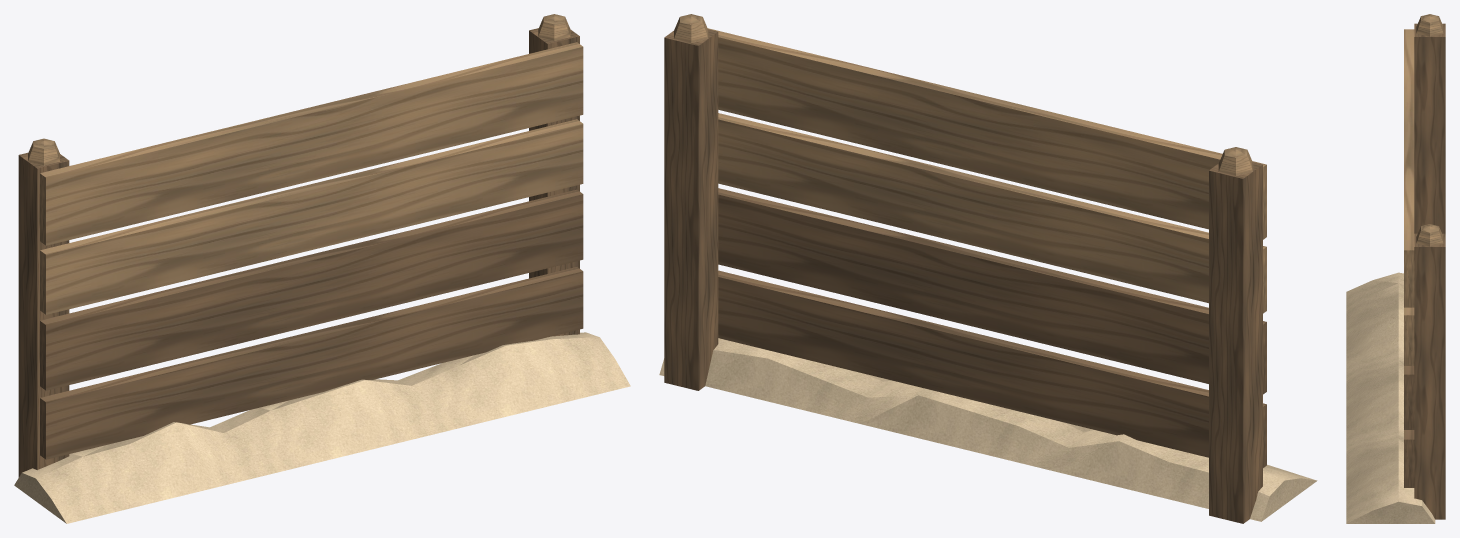
File: barrier.glb
3 views of the same model, side by side, from view 1: azimuth 30°, elevation 25°; view 2: azimuth 150°, elevation 25°; view 3: azimuth 270°, elevation 25° (orthographic). The views are drawn at different scales.
Parts seen in each view (by area): view 1: OUT; view 2: OUT; view 3: OUT.
Part boxes in pixels (<box>): OUT: <box>14,14,630,523</box>; OUT: <box>659,14,1317,523</box>; OUT: <box>1346,14,1445,523</box>.
Bounding box in the file's own units: 2.1 × 1.21 × 0.38.
3 materials, 3 textured.
